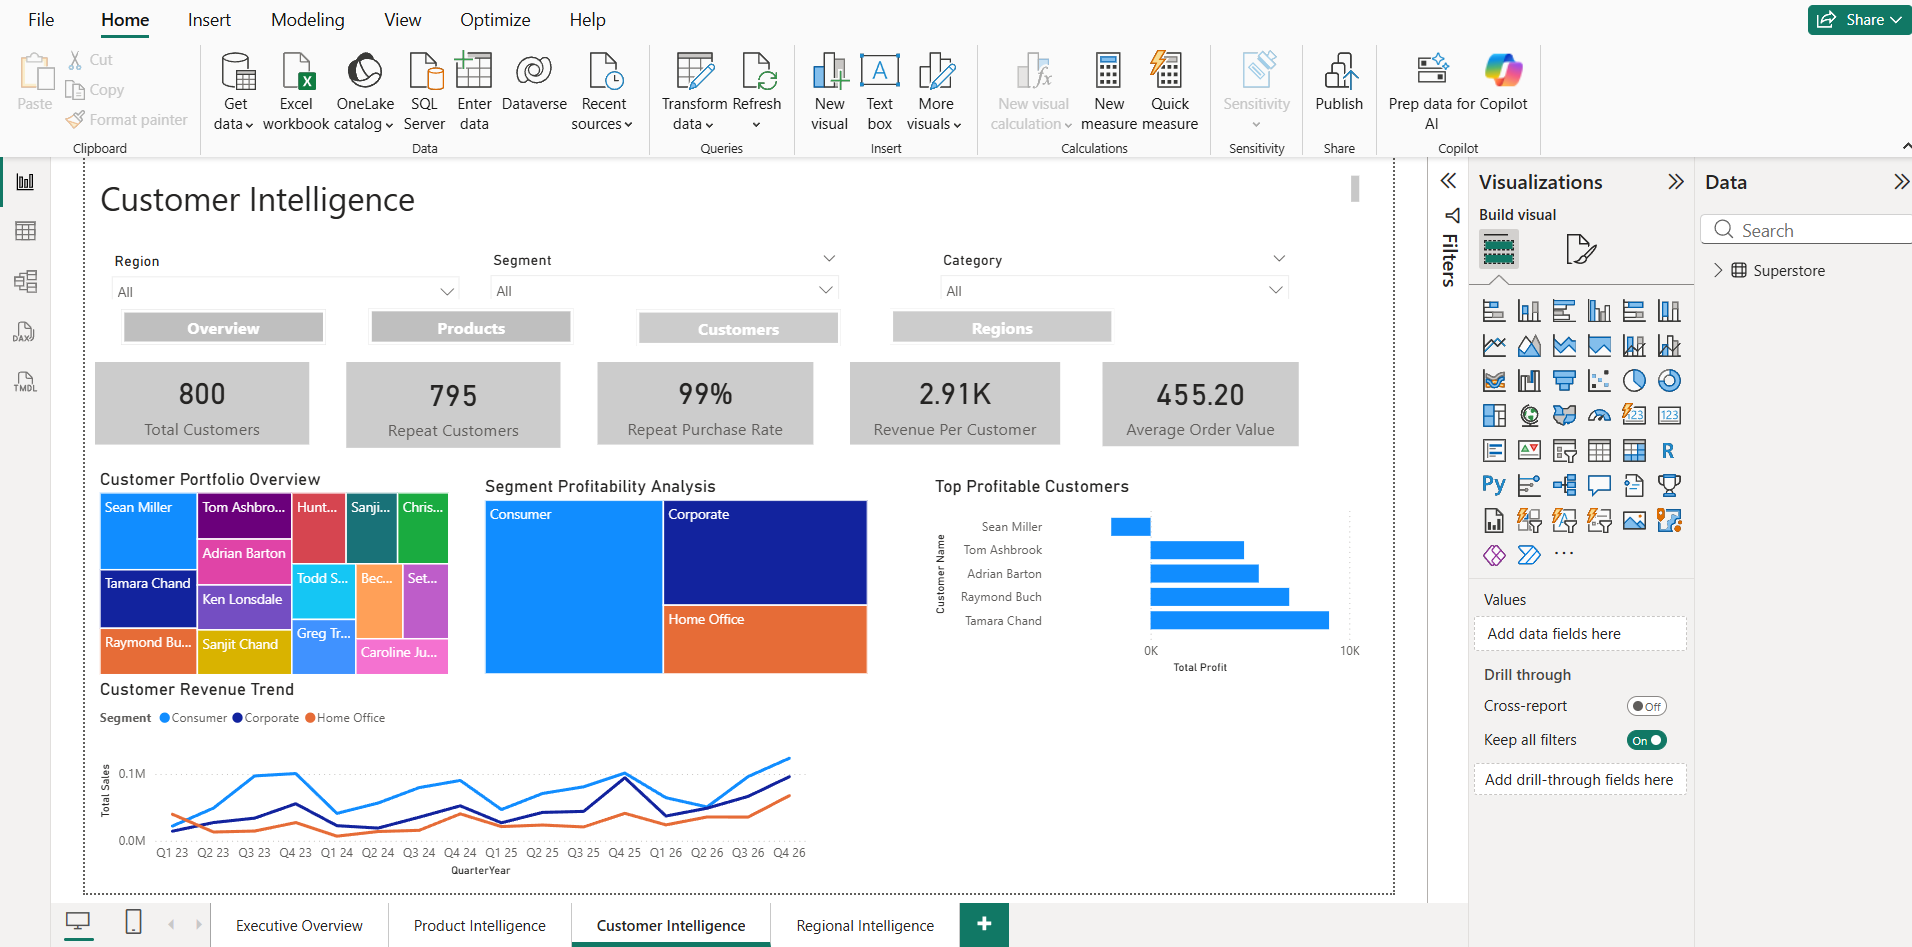

This screenshot's page, from the dashboard's own definition file:
{"tool":"powerbi","page":{"name":"Customer Intelligence","canvas":[1280,720],"ordinal":2},"visuals":[{"type":"card","fields":{"Values":["Superstore.Total Customers"]},"box":[9.6,200.3,209.9,81],"z":0},{"type":"card","fields":{"Values":["Superstore.Repeat Customers"]},"box":[255.2,200.3,209.9,83.7],"z":1000},{"type":"card","fields":{"Values":["Superstore.Repeat Purchase Rate"]},"box":[500.9,200.3,211.3,81],"z":2000},{"type":"card","fields":{"Values":["Superstore.Revenue Per Customer"]},"box":[747.9,200.3,205.8,81],"z":3000},{"type":"card","fields":{"Values":["Superstore.Average Order Value"]},"box":[994.9,200.3,192.1,82.3],"z":4000},{"type":"treemap","title":"Customer Portfolio Overview","fields":{"Group":["Superstore.Customer Name"],"Values":["Superstore.Total Sales"]},"box":[9.6,304.6,351.3,207.2],"z":5000},{"type":"treemap","title":"Segment Profitability Analysis","fields":{"Group":["Superstore.Segment"],"Values":["Superstore.Total Profit"]},"box":[387,311.5,384.2,199],"z":6000},{"type":"clusteredBarChart","title":"Top Profitable Customers","fields":{"Category":["Superstore.Customer Name"],"Y":["Superstore.Total Profit"]},"box":[826.1,311.5,425.4,199],"z":7000},{"type":"lineChart","title":"Customer Revenue Trend","fields":{"Category":["Superstore.QuarterYear"],"Series":["Superstore.Segment"],"Y":["Superstore.Total Sales"]},"box":[9.6,510.5,702.6,199],"z":8000},{"type":"textbox","box":[9.6,13.7,1241.9,54.9],"z":9000},{"type":"slicer","fields":{"Values":["Superstore.Region"]},"box":[15.9,88,360.7,51.4],"z":10000},{"type":"slicer","fields":{"Values":["Superstore.Segment"]},"box":[387,86.4,360.9,52.1],"z":11000},{"type":"slicer","fields":{"Values":["Superstore.Category"]},"box":[826.1,86.4,360.9,52.1],"z":12000},{"type":"actionButton","box":[35.7,149.6,200.3,34.3],"z":13000},{"type":"actionButton","box":[277.2,148.2,200.3,35.7],"z":14000},{"type":"actionButton","box":[787.7,148.2,219.6,35.7],"z":15000},{"type":"actionButton","box":[539.3,149.6,200.3,35.7],"z":16000}]}

Visuals, with their boxes on the page's 1280x720 design canvas (x1, y1, x2, y2). These are canvas units, not pixel positions in the 1912x947 screenshot, which may show the page scaled, cropped or inside an application window:
card - Superstore.Total Customers: [x1=10, y1=200, x2=220, y2=281]
card - Superstore.Repeat Customers: [x1=255, y1=200, x2=465, y2=284]
card - Superstore.Repeat Purchase Rate: [x1=501, y1=200, x2=712, y2=281]
card - Superstore.Revenue Per Customer: [x1=748, y1=200, x2=954, y2=281]
card - Superstore.Average Order Value: [x1=995, y1=200, x2=1187, y2=283]
"Customer Portfolio Overview" treemap: [x1=10, y1=305, x2=361, y2=512]
"Segment Profitability Analysis" treemap: [x1=387, y1=312, x2=771, y2=510]
"Top Profitable Customers" clusteredBarChart: [x1=826, y1=312, x2=1252, y2=510]
"Customer Revenue Trend" lineChart: [x1=10, y1=510, x2=712, y2=710]
textbox: [x1=10, y1=14, x2=1252, y2=69]
slicer - Superstore.Region: [x1=16, y1=88, x2=377, y2=139]
slicer - Superstore.Segment: [x1=387, y1=86, x2=748, y2=138]
slicer - Superstore.Category: [x1=826, y1=86, x2=1187, y2=138]
actionButton: [x1=36, y1=150, x2=236, y2=184]
actionButton: [x1=277, y1=148, x2=478, y2=184]
actionButton: [x1=788, y1=148, x2=1007, y2=184]
actionButton: [x1=539, y1=150, x2=740, y2=185]
